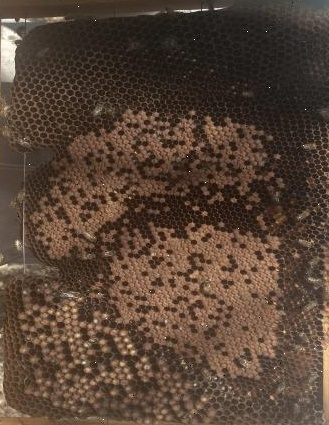cria: (18, 219, 284, 424), (29, 107, 285, 260)
